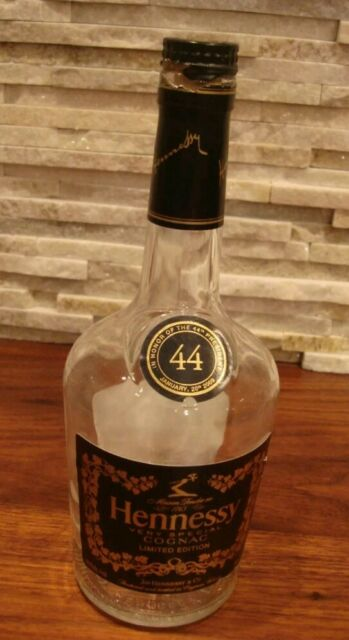Hennessy: (43, 20, 300, 637)
